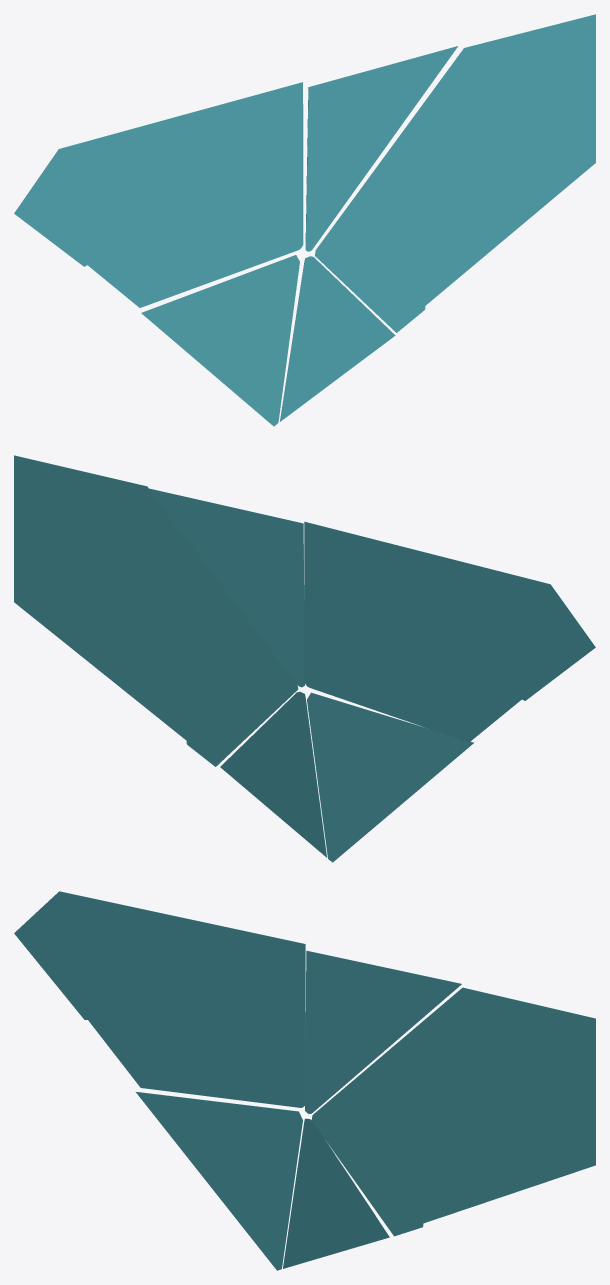
The model's file is glass.glb.
The picture shows the model from 3 angles, top to bottom: view 1: azimuth 30°, elevation 25°; view 2: azimuth 150°, elevation 25°; view 3: azimuth 330°, elevation 25°; orthographic projection.
Visible parts, largest first — view 1: glass01, glass03, glass04, glass02, glass05; view 2: glass01, glass03, glass04, glass02, glass05; view 3: glass01, glass03, glass04, glass02, glass05.
Boxes of the visible parts, bbox=[...] form: glass01: bbox=[315, 14, 595, 332]; glass03: bbox=[14, 82, 303, 307]; glass04: bbox=[141, 255, 299, 426]; glass02: bbox=[305, 46, 457, 251]; glass05: bbox=[280, 256, 395, 421]; glass01: bbox=[14, 455, 298, 766]; glass03: bbox=[304, 521, 595, 742]; glass04: bbox=[307, 692, 473, 862]; glass02: bbox=[148, 488, 304, 687]; glass05: bbox=[220, 691, 326, 857]; glass01: bbox=[311, 987, 595, 1236]; glass03: bbox=[14, 891, 305, 1107]; glass04: bbox=[135, 1091, 302, 1270]; glass02: bbox=[305, 950, 461, 1113]; glass05: bbox=[283, 1118, 389, 1268].
Size of the model in its own units: 2.58 by 1.42 by 0.0511.
